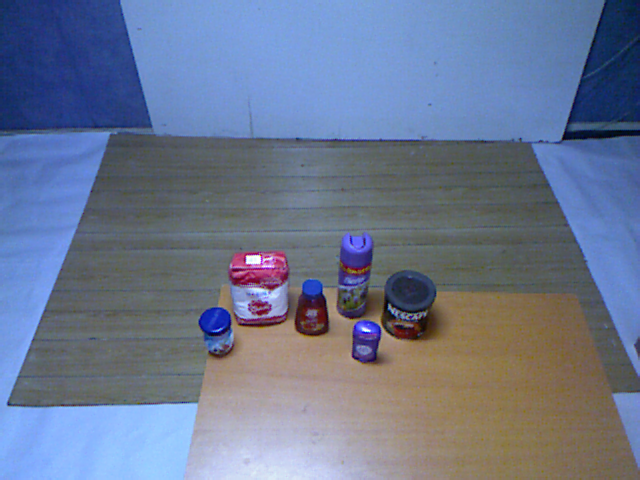aerosol: (332, 229, 379, 319)
cafe: (379, 268, 443, 343)
crema: (195, 305, 238, 362)
desodorante: (347, 315, 385, 369)
ketchup: (292, 275, 334, 339)
leche: (224, 249, 292, 330)
